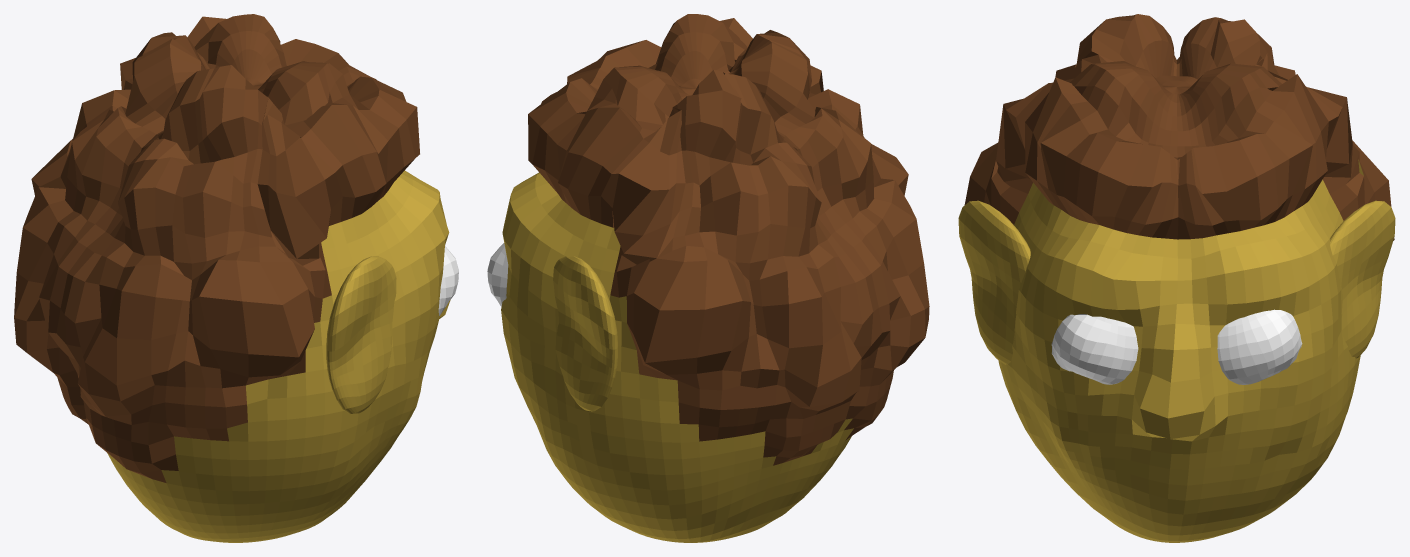
File: kid.fbx
The picture shows the model from 3 angles, left to right: view 1: azimuth 30°, elevation 25°; view 2: azimuth 150°, elevation 25°; view 3: azimuth 270°, elevation 25°; orthographic projection.
Visible parts, largest first — view 1: Kid; view 2: Kid; view 3: Kid.
Boxes of the visible parts, x1,y1,x2,y2 form: Kid: [14, 14, 458, 542]; Kid: [487, 14, 929, 542]; Kid: [958, 14, 1395, 542].
Size of the model in its own units: 97.6 by 116 by 94.6.
